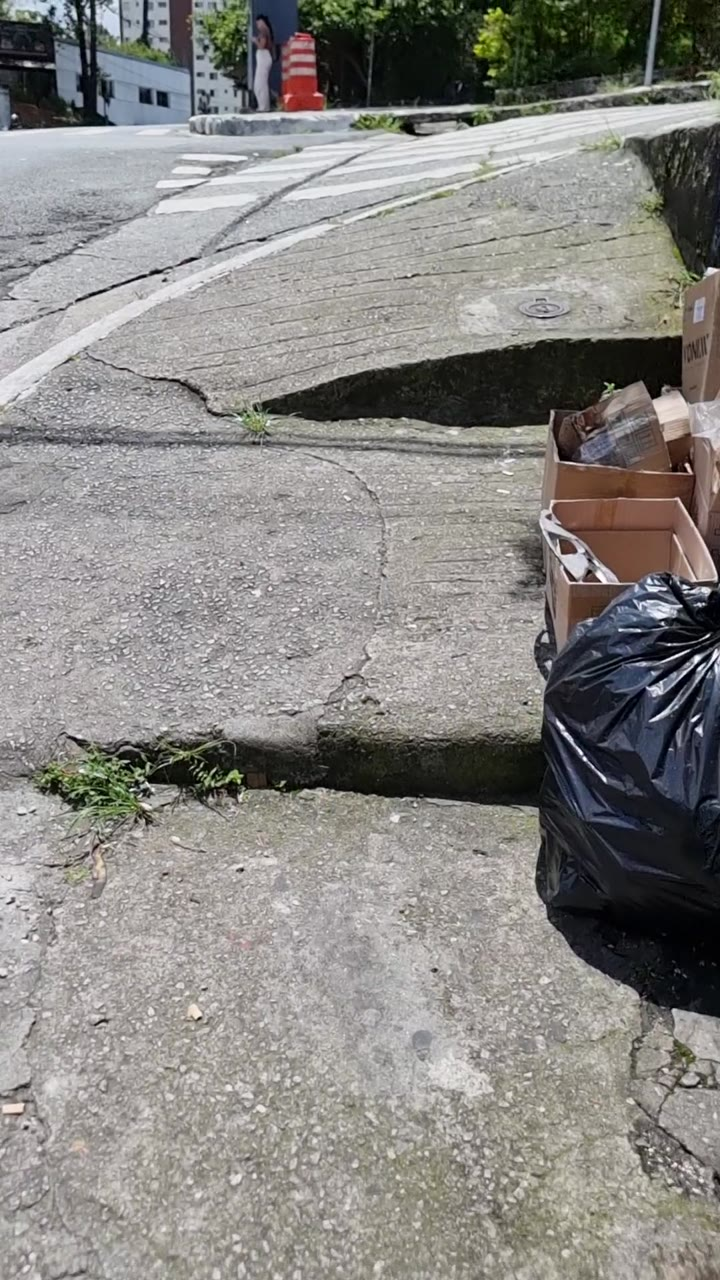desnivel: (0, 730, 540, 819), (252, 333, 612, 435)
obstaculo: (537, 573, 719, 941), (540, 498, 717, 648)
